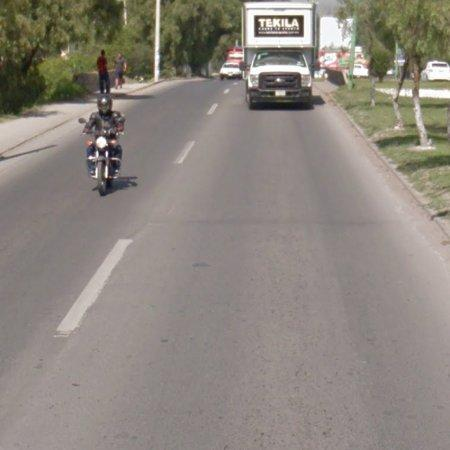motorcycles: (77, 114, 130, 196)
